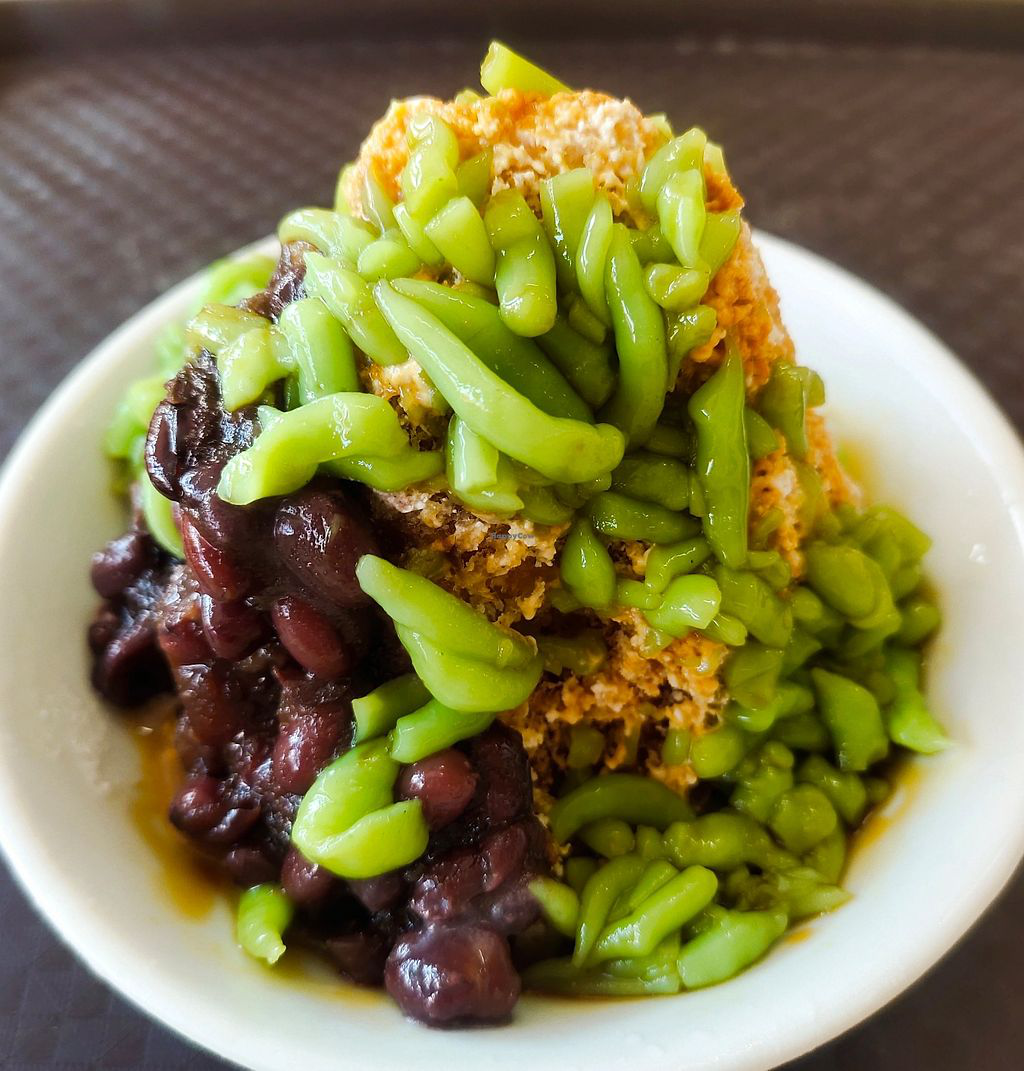Chendol: (98, 53, 942, 1006)
